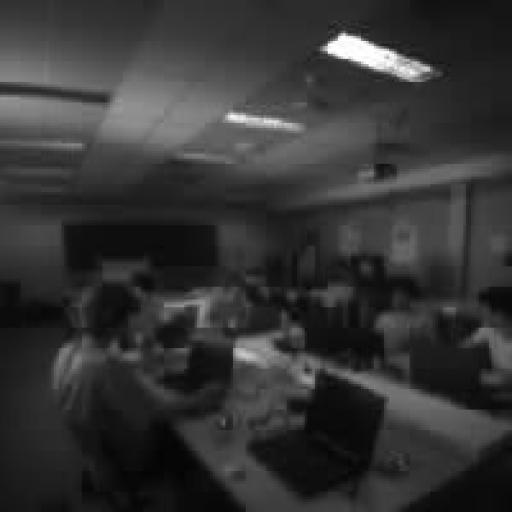human: (52, 282, 225, 478), (464, 287, 511, 391), (374, 277, 432, 358), (195, 276, 265, 332), (114, 267, 173, 330)
